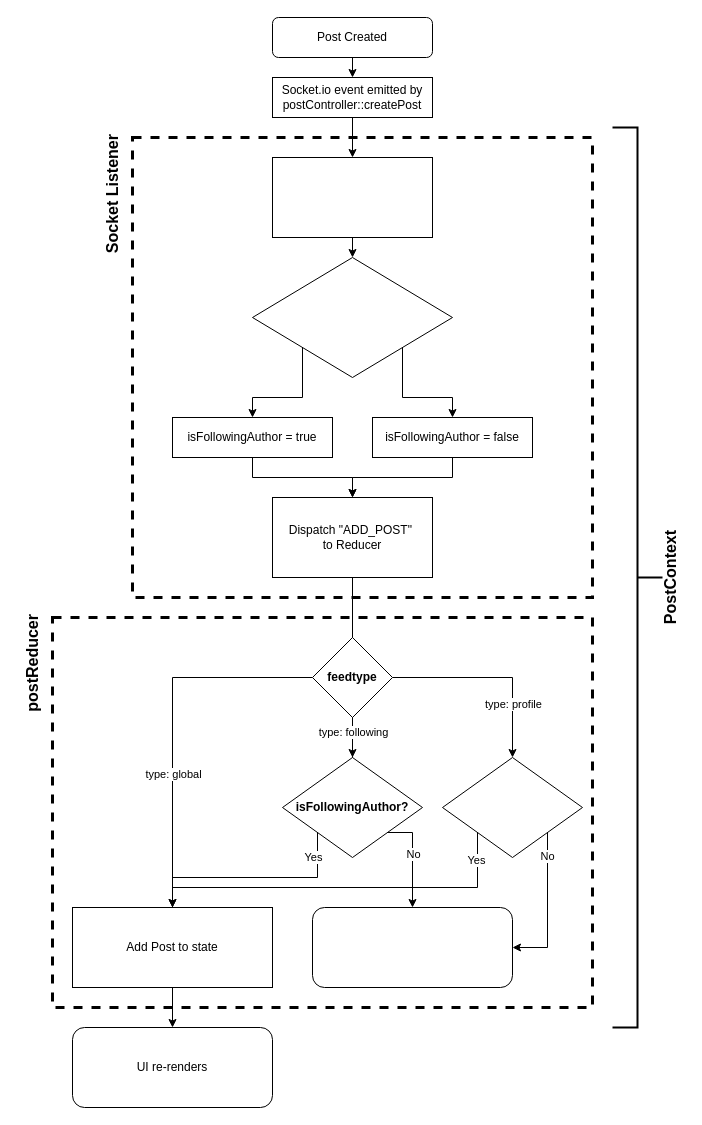
Some shapes in this 702 by 1125 pixel diagram are drawn without their labels. Here are the shapes that lost their labels. From the top down, the box of each, then its label:
(272, 156, 432, 238): PostContext detects "new_post" event
(252, 256, 452, 378): RelationshipContext: 'author_id' in 'following' list
(442, 756, 582, 858): Username matches?
(312, 906, 512, 988): No change to state
